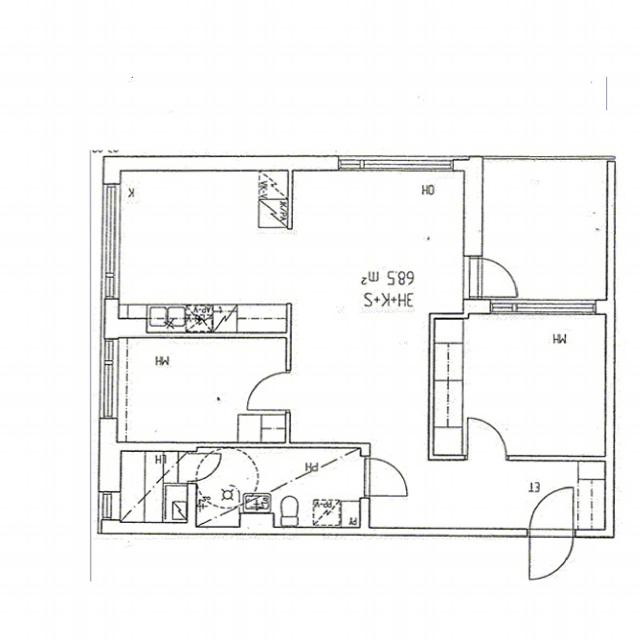door: (464, 258, 522, 296), (530, 528, 572, 580), (530, 485, 572, 536), (360, 459, 407, 495), (248, 372, 290, 410), (468, 417, 506, 459), (188, 454, 224, 481)
